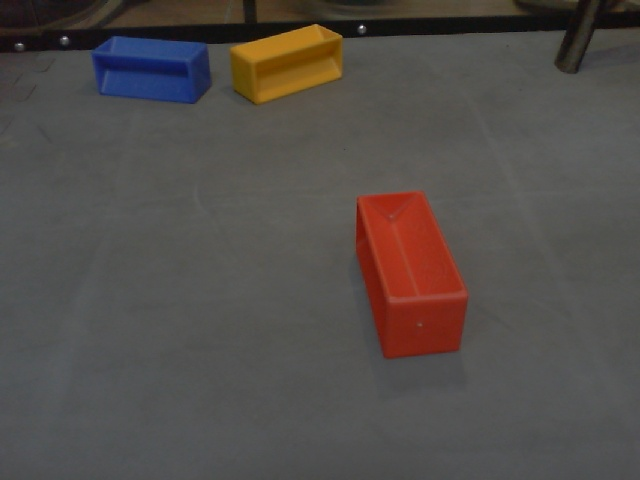BlueSample: (90, 34, 213, 108)
RedSample: (352, 189, 471, 361)
YellowSample: (227, 20, 345, 106)
